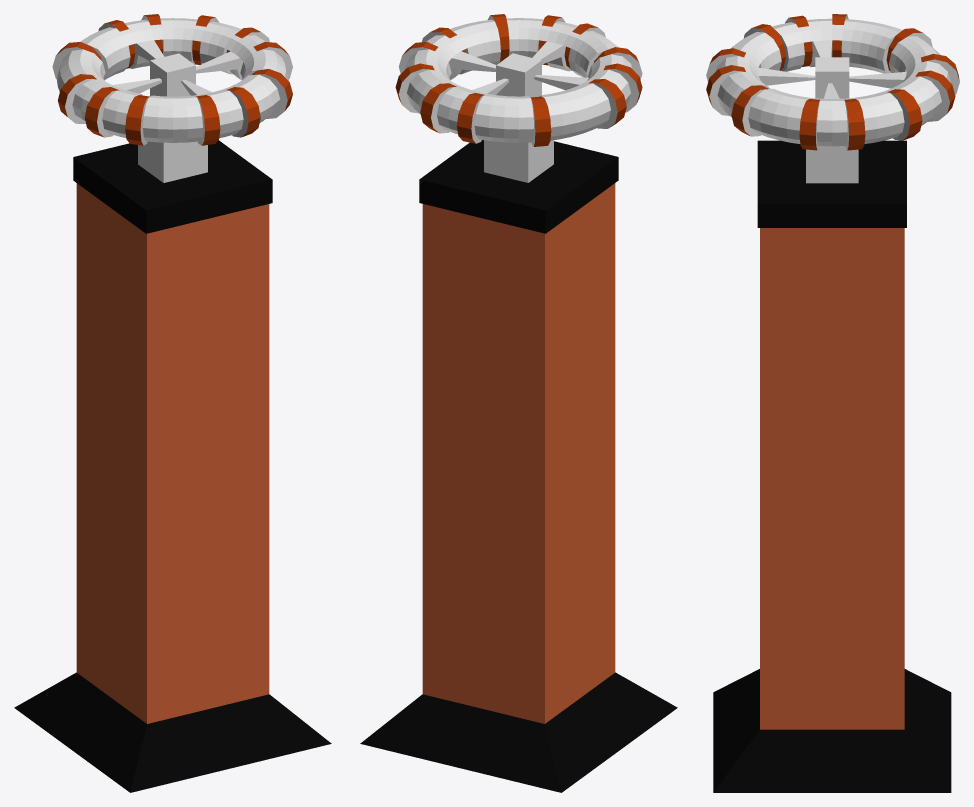
Rendered from cewka.fbx.
3 renders of one model, left to right at view 1: azimuth 30°, elevation 25°; view 2: azimuth 150°, elevation 25°; view 3: azimuth 270°, elevation 25°, orthographic. The views are drawn at different scales.
Visible parts, largest first — view 1: Cube; view 2: Cube; view 3: Cube.
Part boxes in pixels (x1,y1,x2,y2): Cube: (14,14,331,792); Cube: (360,14,677,792); Cube: (706,14,959,792).
Size of the model in its own units: 65.91 by 196 by 65.91.
